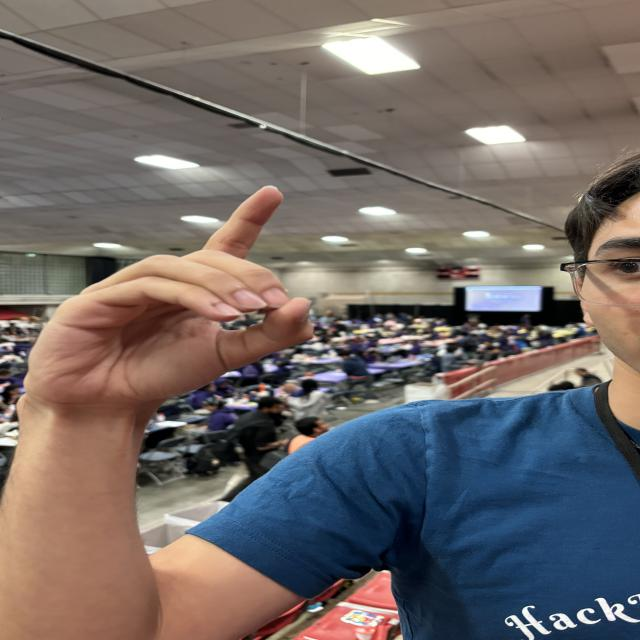D: (68, 177, 344, 406)
